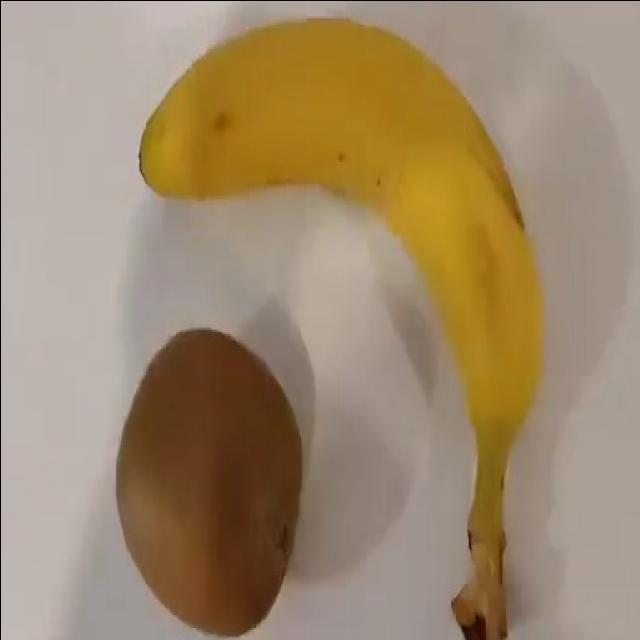Banana: (137, 17, 545, 638)
